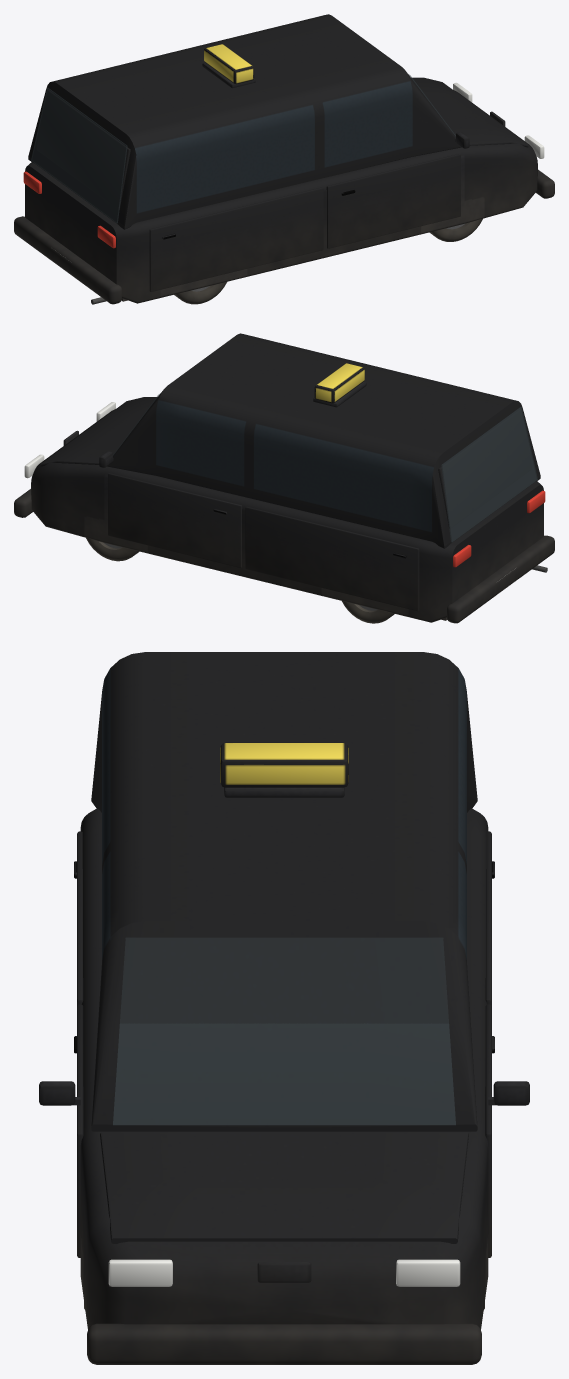
File: taxi-londres.glb
3 renders of one model, top to bottom at view 1: azimuth 30°, elevation 25°; view 2: azimuth 150°, elevation 25°; view 3: azimuth 270°, elevation 25°, orthographic. The views are drawn at different scales.
Parts seen in each view (by area): view 1: body, door_rr, door_fr, glass_rear, trunk, hood, bumper_rear, wheel_fr_tire, wheel_rr_tire, bumper_front; view 2: body, door_rl, door_fl, glass_rear, trunk, hood, bumper_rear, wheel_fl_tire, wheel_rl_tire, bumper_front; view 3: body, glass_windshield, hood, bumper_front, headlight_left, headlight_right, door_fl, door_fr, door_rl, door_rr.
Part boxes in pixels (box(x1,y1,x2,y2)): body: box(25, 14, 537, 304); door_rr: box(149, 187, 323, 291); door_fr: box(326, 154, 460, 248); glass_rear: box(31, 88, 127, 223); trunk: box(37, 90, 130, 209); hood: box(411, 77, 528, 147); bumper_rear: box(14, 216, 121, 304); wheel_fr_tire: box(429, 218, 482, 241); wheel_rr_tire: box(174, 282, 226, 304); bumper_front: box(536, 169, 554, 198); body: box(31, 333, 547, 622); door_rl: box(245, 506, 419, 611); door_fl: box(108, 473, 242, 567); glass_rear: box(441, 407, 537, 542); trunk: box(438, 409, 531, 528); hood: box(40, 397, 157, 466); bumper_rear: box(447, 535, 554, 623); wheel_fl_tire: box(86, 538, 139, 561); wheel_rl_tire: box(342, 601, 394, 623); bumper_front: box(14, 489, 32, 517); body: box(39, 652, 529, 1329); glass_windshield: box(113, 937, 455, 1125); hood: box(100, 1132, 468, 1243); bumper_front: box(87, 1323, 481, 1364); headlight_left: box(396, 1259, 460, 1286); headlight_right: box(108, 1259, 172, 1286); door_fl: box(485, 1004, 494, 1257); door_fr: box(74, 1004, 83, 1257); door_rl: box(485, 831, 494, 1006); door_rr: box(74, 831, 83, 1006).
Size of what is drawn, in the model's own units: 4.85 by 1.99 by 2.29.
6 materials, 5 textured.
